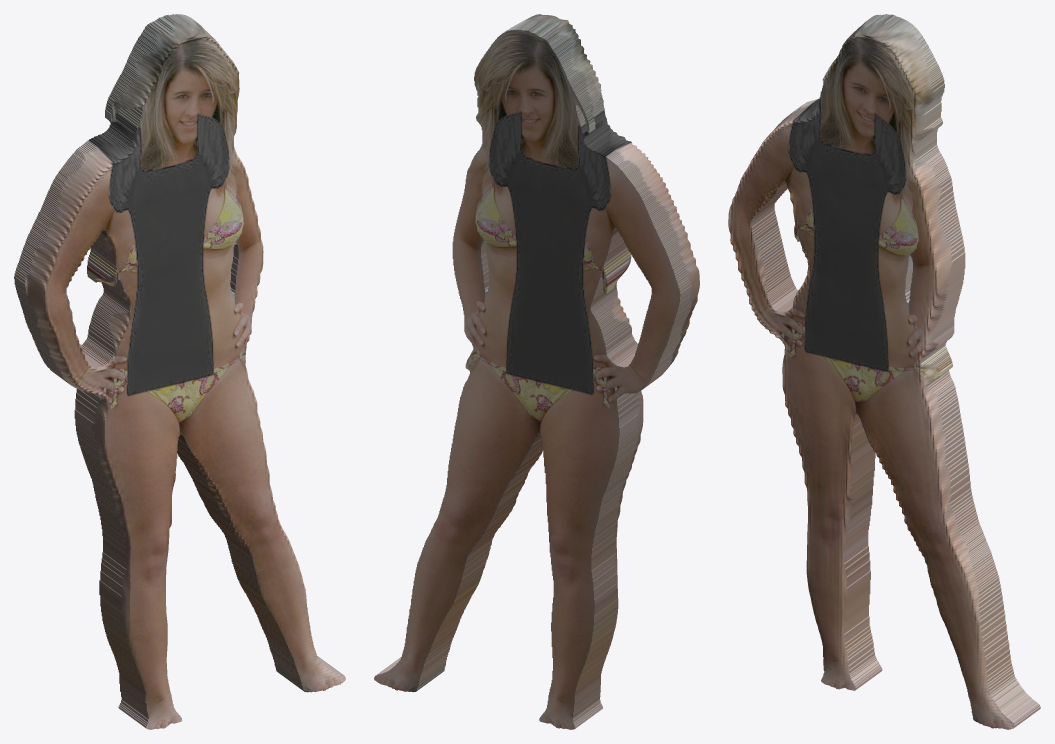
The model's file is avatar_220641.glb.
3 views of the same model, side by side, from view 1: azimuth 30°, elevation 25°; view 2: azimuth 150°, elevation 25°; view 3: azimuth 330°, elevation 25° (orthographic). The views are drawn at different scales.
Parts seen in each view (by area): view 1: world; view 2: world; view 3: world.
Part boxes in pixels (x1,y1,x2,y2): world: [14, 14, 345, 729]; world: [374, 14, 699, 729]; world: [728, 14, 1040, 729].
Bounding box in the file's own units: 83.98 × 181 × 13.42.
